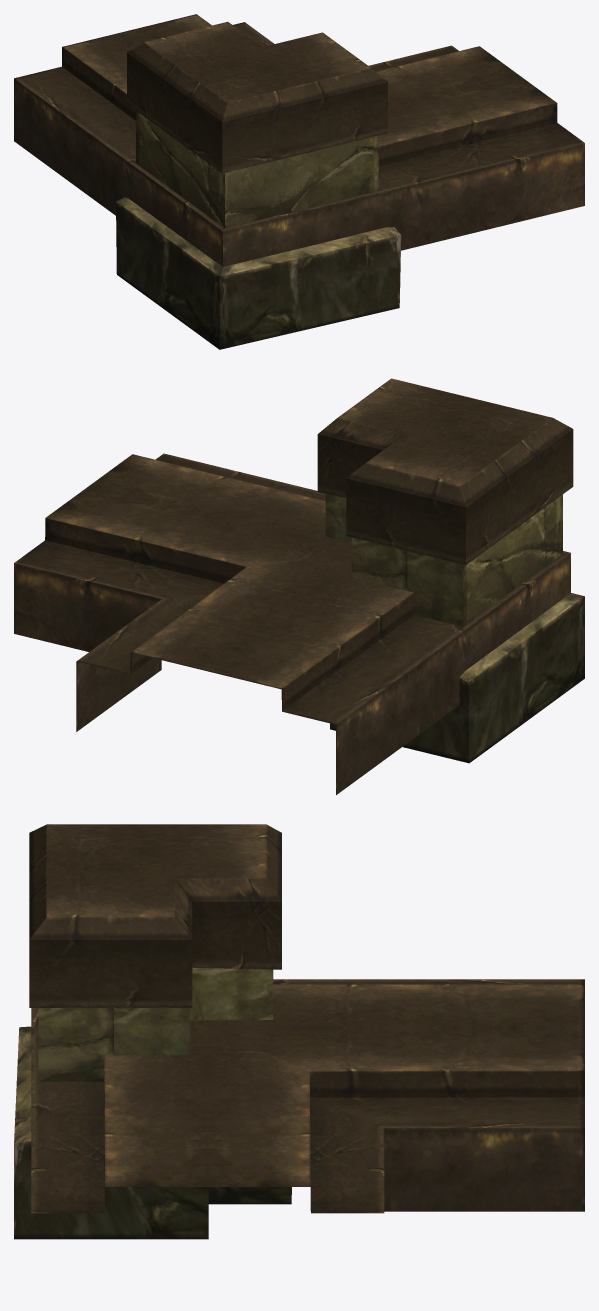
The model's file is Stage001_Bujian_02.FBX.
3 views of the same model, one above another, from view 1: azimuth 30°, elevation 25°; view 2: azimuth 150°, elevation 25°; view 3: azimuth 270°, elevation 25° (orthographic). The views are drawn at different scales.
Visible parts, largest first — view 1: Stage001_Bujian_02; view 2: Stage001_Bujian_02; view 3: Stage001_Bujian_02.
Boxes of the visible parts, x1=… form: Stage001_Bujian_02: x1=14, y1=14, x2=584, y2=349; Stage001_Bujian_02: x1=14, y1=378, x2=584, y2=794; Stage001_Bujian_02: x1=14, y1=824, x2=584, y2=1239.
Bounding box in the file's own units: 281 × 171 × 284.
Materials: 1 (1 with a texture image).
